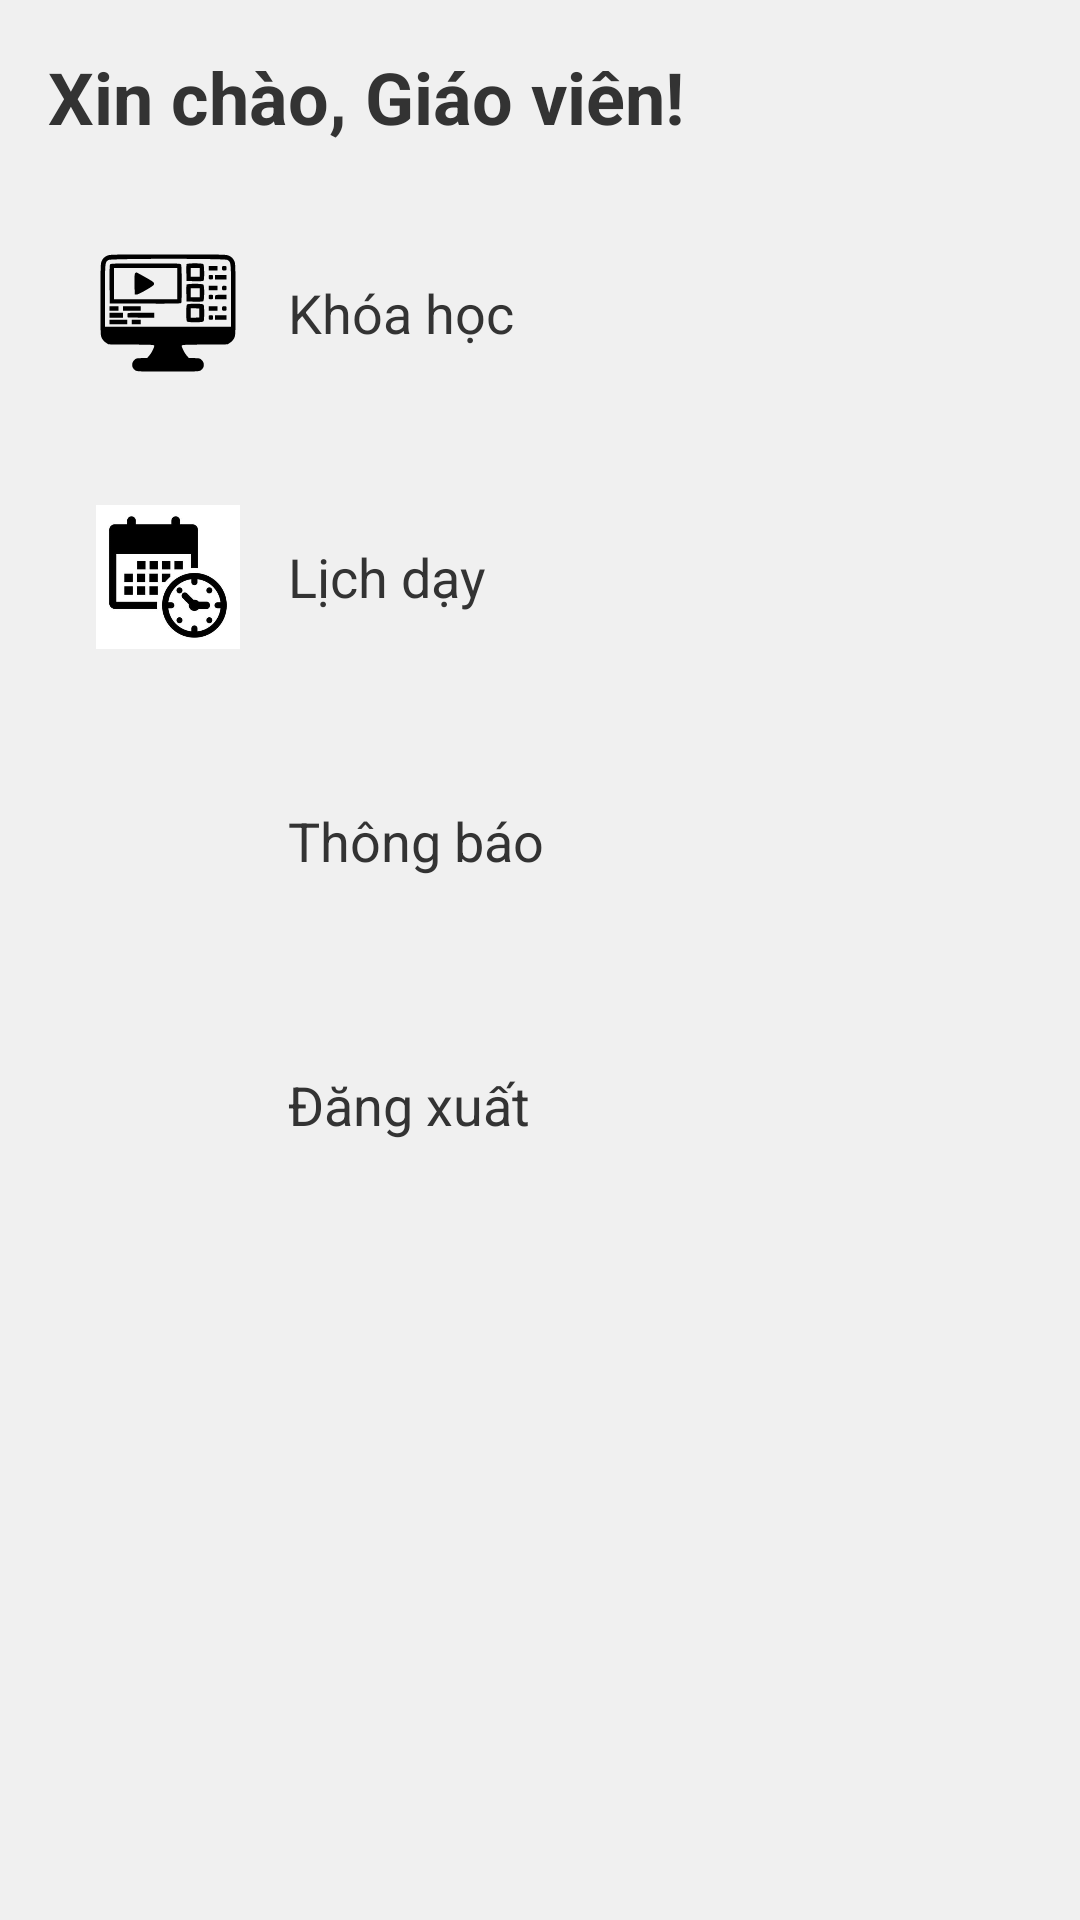

Named icons in this screenshot (1080w x 1920h) and their bounding boxes, (x1, y1, x2, y2):
Courses Icon: (100, 254, 236, 372)
Schedule Icon: (96, 505, 240, 649)
